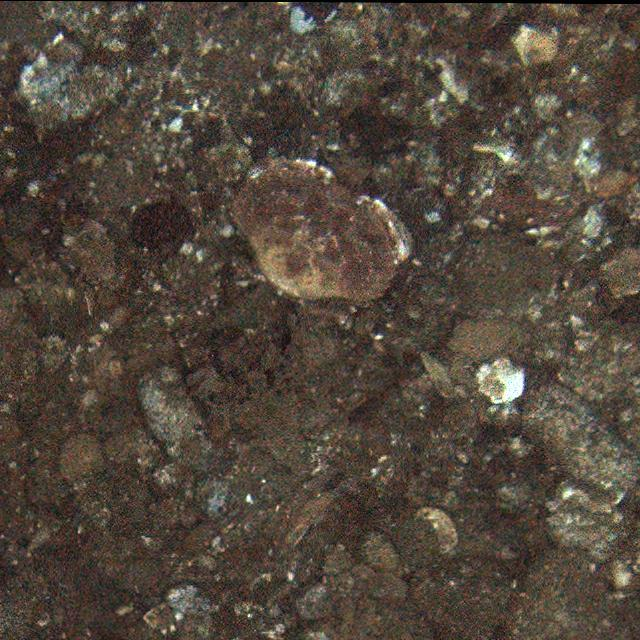crab: (229, 159, 411, 306)
